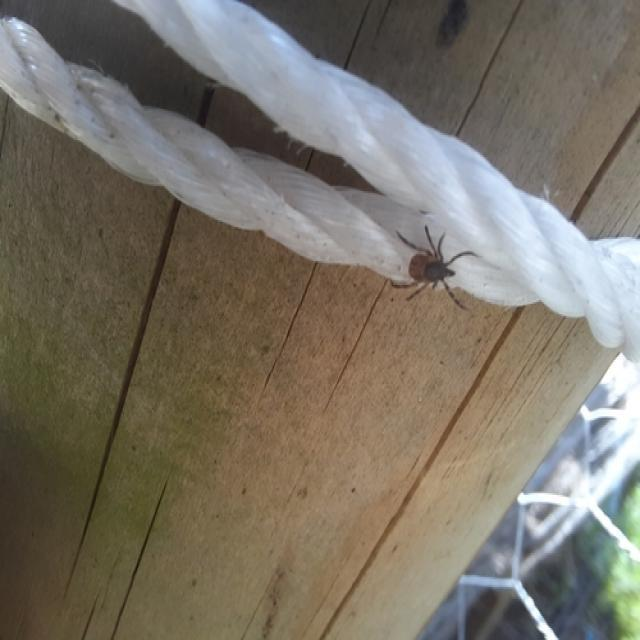Ixodes Ricinus-F: (389, 225, 476, 311)
